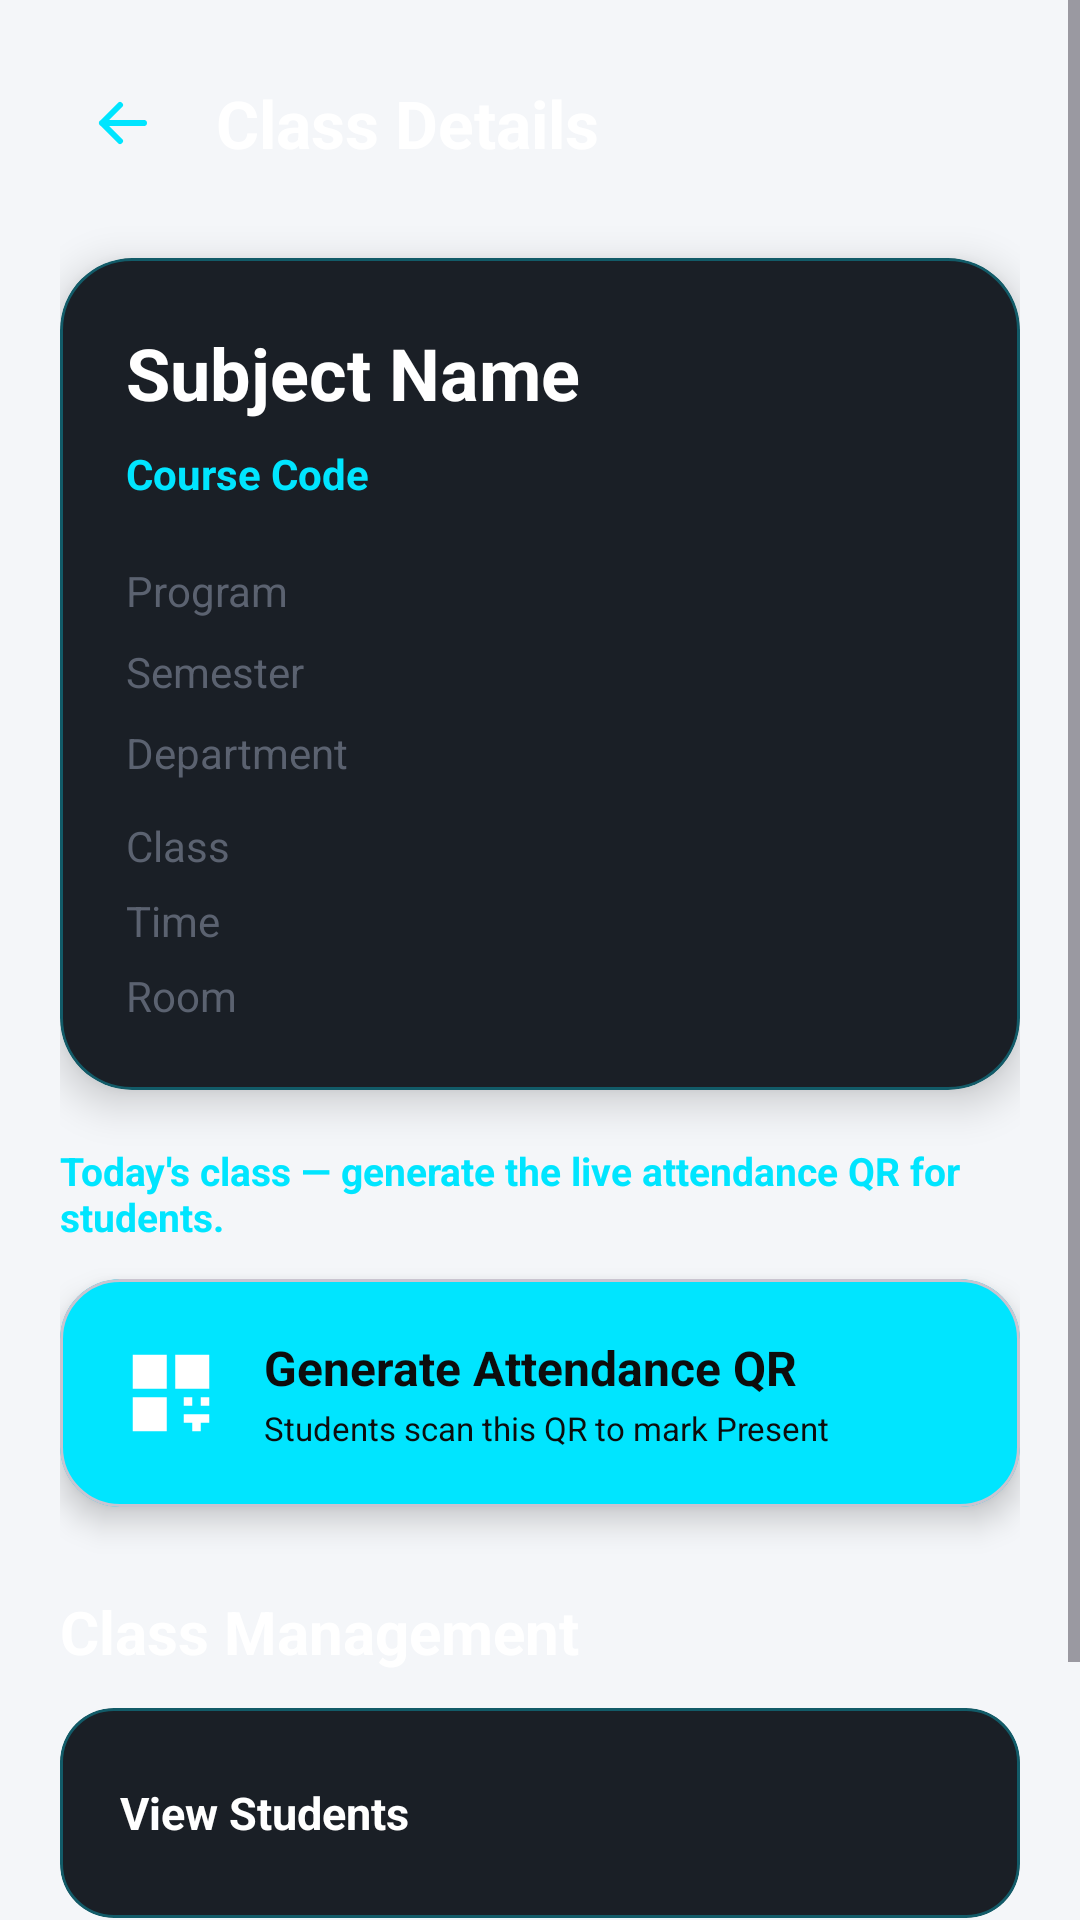

Screen size 1080 x 1920. Icon name, then its box in pixels as (x1, y1, x2, y2):
Back: (99, 102, 147, 144)
qr code: (132, 1354, 210, 1432)
